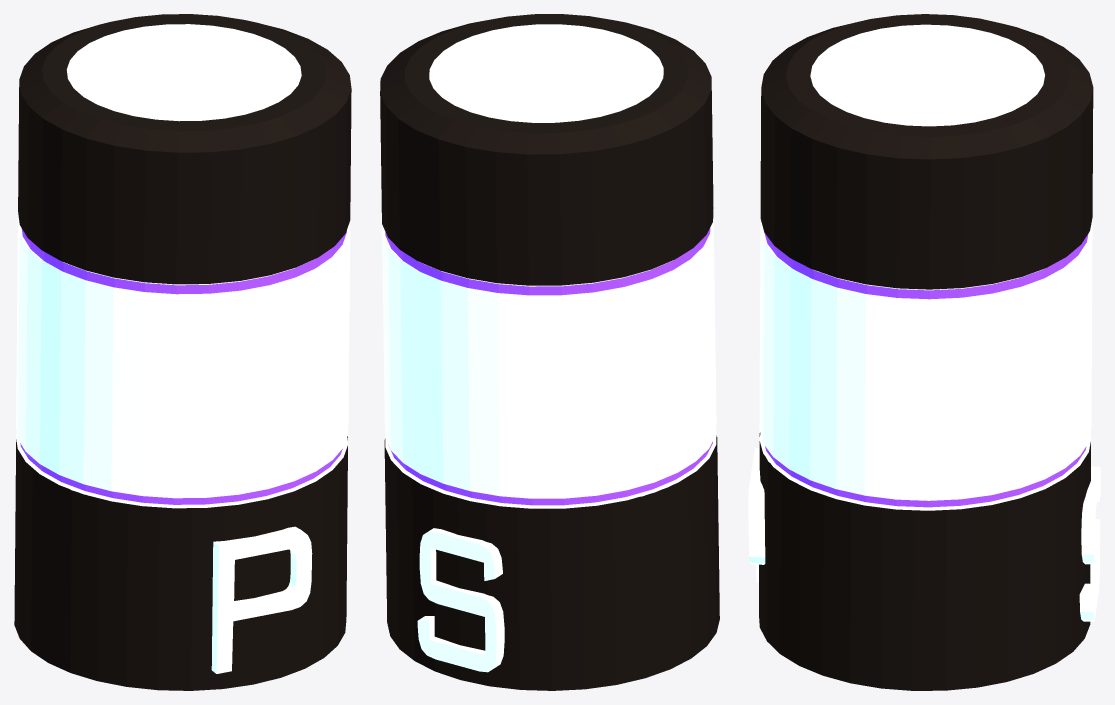
The model's file is SALT&PEPPER.fbx.
The picture shows the model from 3 angles, left to right: view 1: azimuth 30°, elevation 25°; view 2: azimuth 150°, elevation 25°; view 3: azimuth 270°, elevation 25°; orthographic projection.
Visible parts, largest first — view 1: SALT PEPPER, P; view 2: SALT PEPPER, P; view 3: SALT PEPPER, P.
Boxes of the visible parts, x1,y1,x2,y2 form: SALT PEPPER: [16, 14, 351, 508]; P: [14, 436, 347, 690]; SALT PEPPER: [380, 14, 716, 508]; P: [384, 435, 719, 690]; SALT PEPPER: [759, 14, 1093, 510]; P: [748, 432, 1100, 690].
Size of the model in its own units: 12.69 by 22.71 by 13.19.
